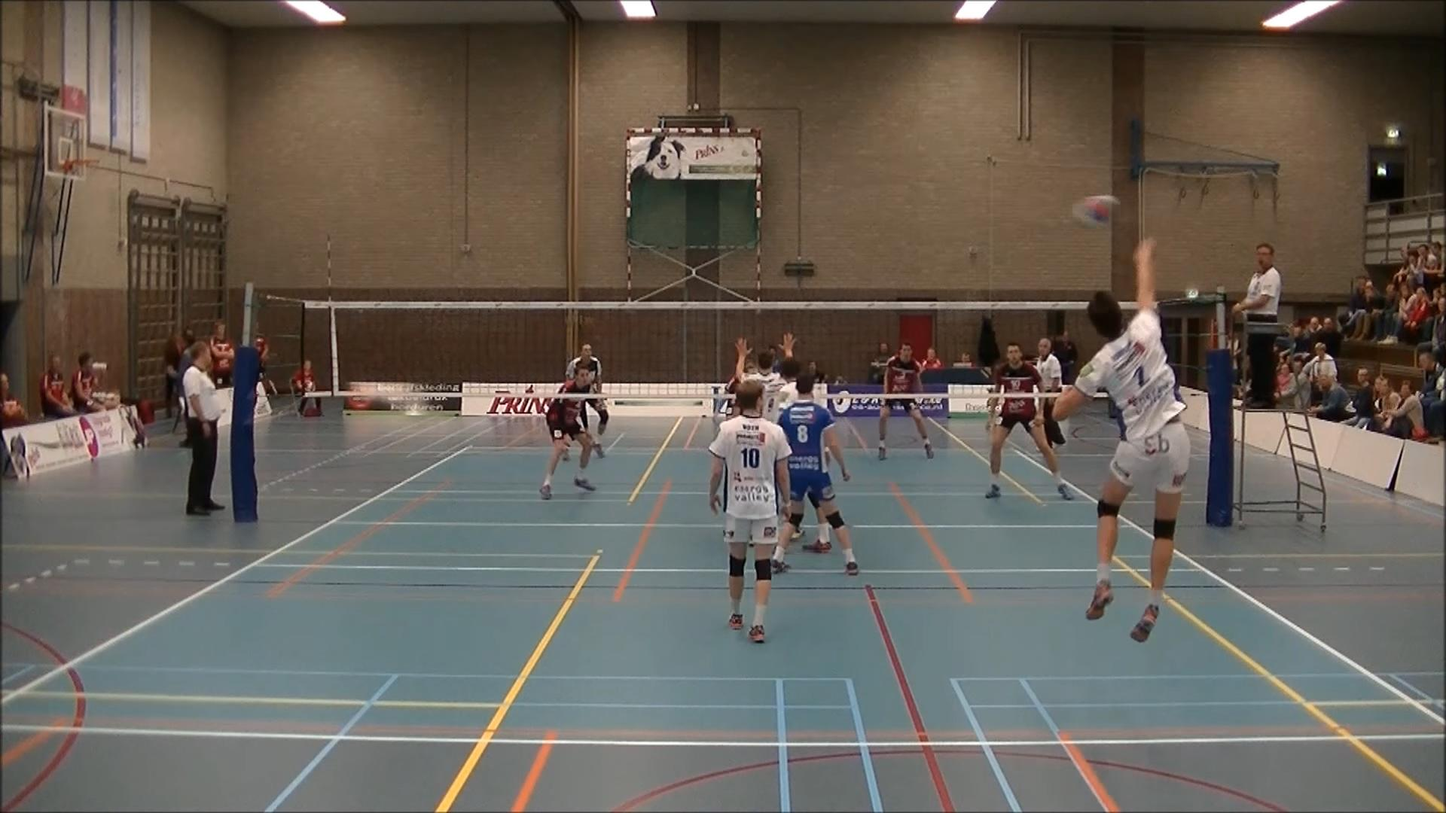battuta: (1051, 228, 1195, 642)
